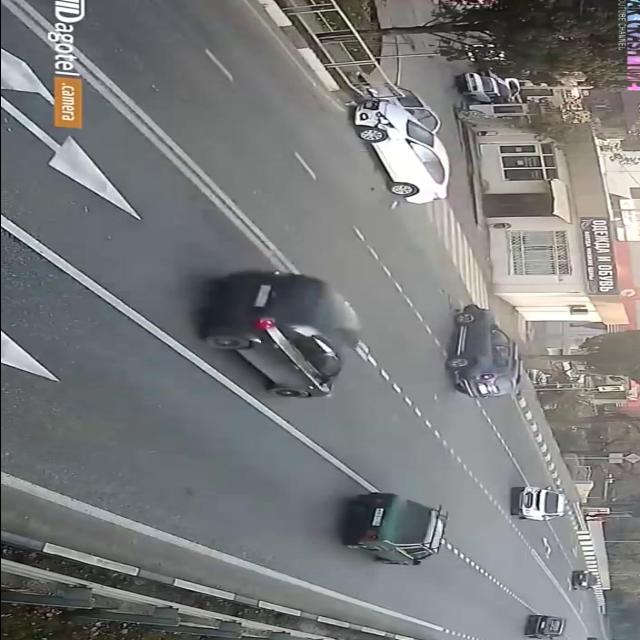accident: (341, 79, 459, 209)
